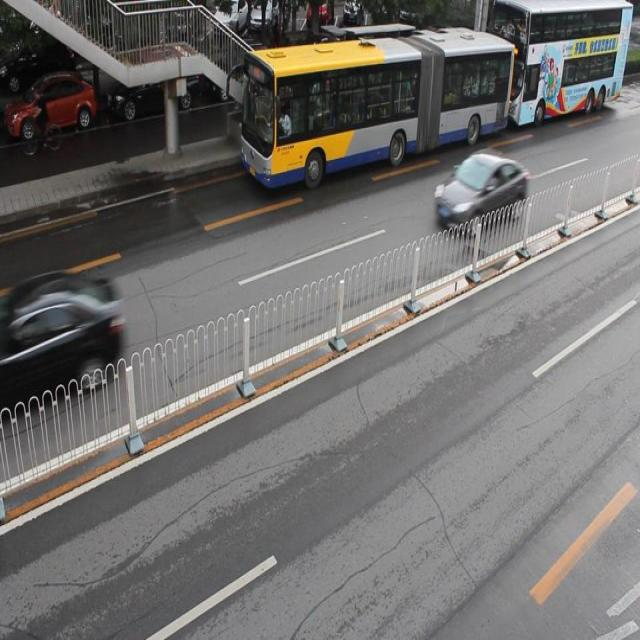car: (0, 273, 120, 407), (433, 147, 528, 232), (1, 67, 95, 133), (104, 52, 198, 110), (208, 36, 277, 99), (291, 36, 363, 94)
van: (241, 21, 512, 178), (485, 1, 630, 119)
